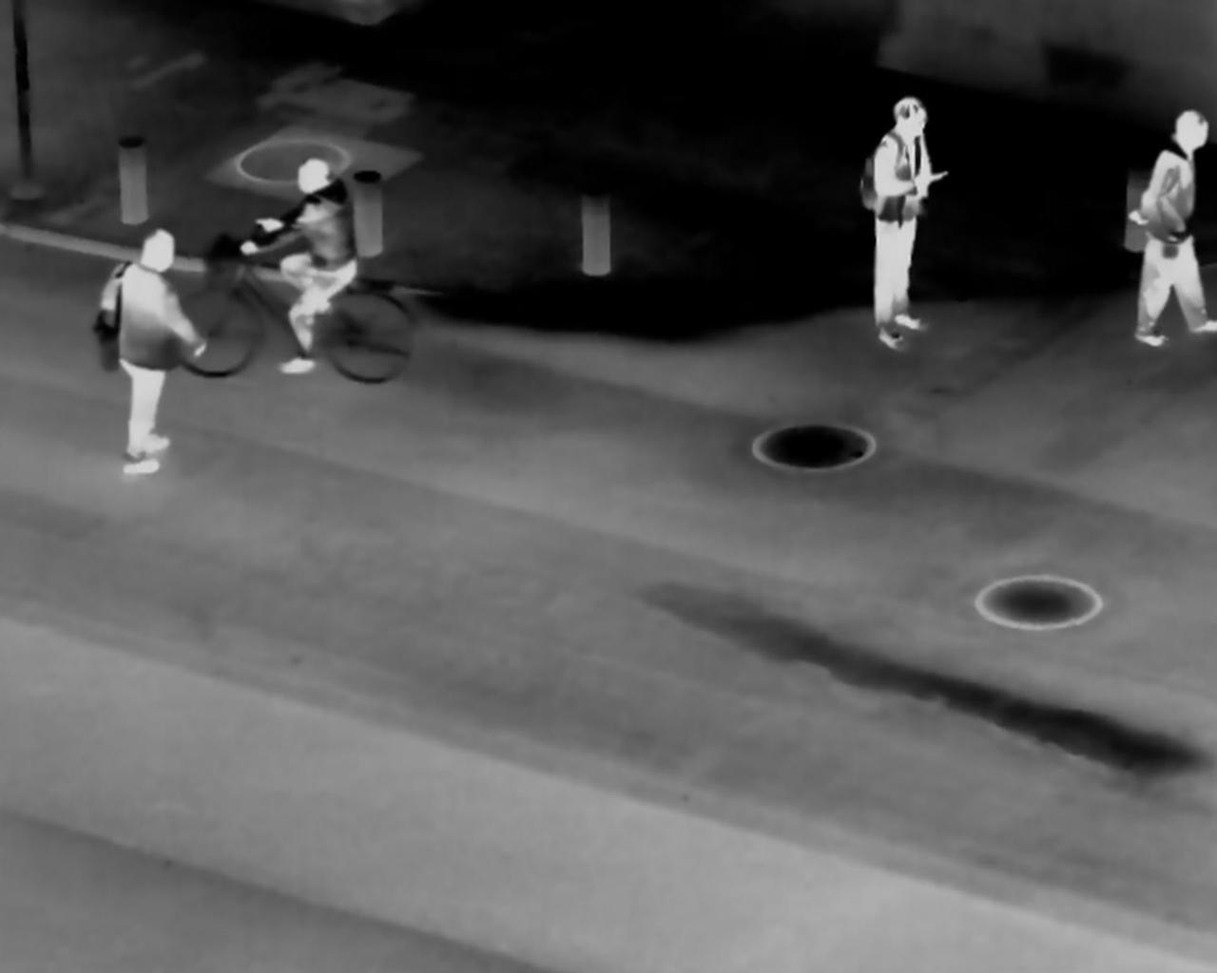person: (91, 226, 207, 485), (247, 146, 364, 383), (1123, 91, 1217, 350), (860, 88, 945, 351)
